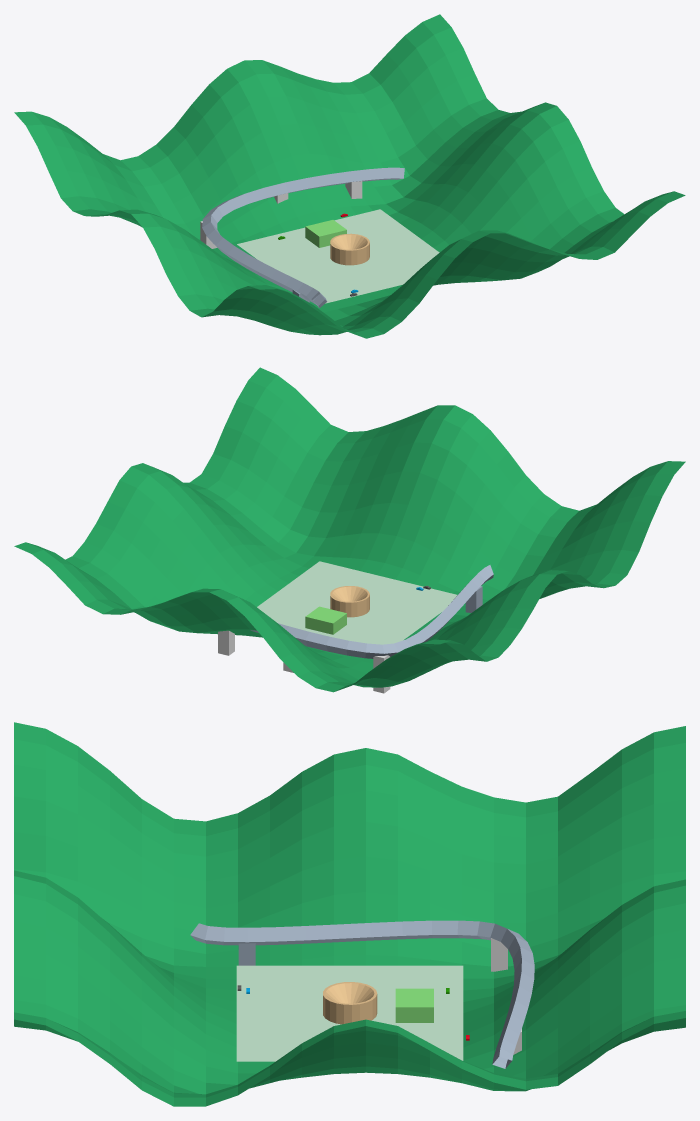
The model's file is u metro 1_21_c.fbx.
3 views of the same model, one above another, from view 1: azimuth 30°, elevation 25°; view 2: azimuth 150°, elevation 25°; view 3: azimuth 270°, elevation 25° (orthographic). The views are drawn at different scales.
Visible parts, largest first — view 1: Montanas, Piso, Vias, Atanasio, Conjunto dptvo; view 2: Montanas, Piso, Vias, Atanasio, Conjunto dptvo; view 3: Montanas, Piso, Vias, Atanasio, Conjunto dptvo.
Boxes of the visible parts, box(x1,y1,x2,y2) form: Montanas: box(14, 14, 685, 338); Piso: box(237, 209, 439, 303); Vias: box(202, 167, 404, 307); Atanasio: box(330, 233, 369, 265); Conjunto dptvo: box(305, 220, 346, 247); Montanas: box(14, 367, 685, 692); Piso: box(257, 561, 457, 644); Vias: box(250, 565, 493, 658); Atanasio: box(330, 586, 369, 617); Conjunto dptvo: box(305, 606, 346, 634); Montanas: box(14, 722, 685, 1106); Piso: box(236, 965, 463, 1061); Vias: box(190, 920, 534, 1068); Atanasio: box(323, 982, 377, 1024); Conjunto dptvo: box(395, 988, 433, 1022).
Bounding box in the file's own units: 33.4 × 33.4 × 9.7.
